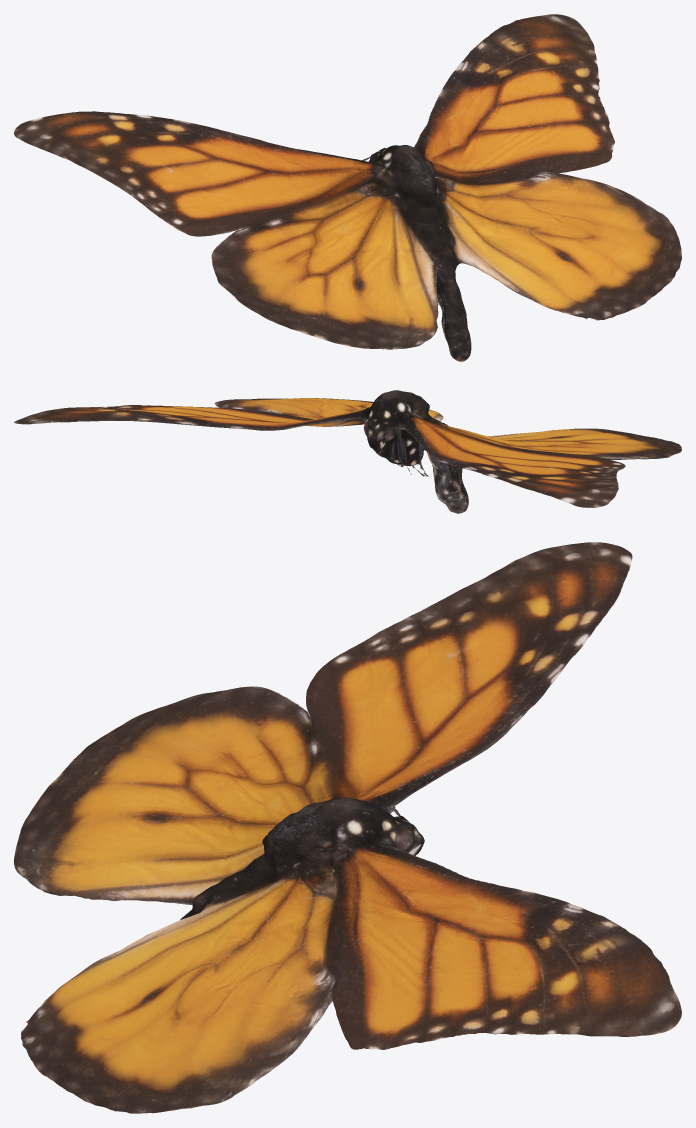
The model's file is monarch_modFinal.glb.
The picture shows the model from 3 angles, top to bottom: view 1: azimuth 30°, elevation 25°; view 2: azimuth 150°, elevation 25°; view 3: azimuth 270°, elevation 25°; orthographic projection. The views are drawn at different scales.
Parts seen in each view (by area): view 1: Object_3, Object_2, Object_4; view 2: Object_3, Object_2, Object_4; view 3: Object_3, Object_2, Object_4.
Part boxes in pixels (left/top/right/bottom): Object_3: left=14, top=111, right=681, bottom=361; Object_2: left=252, top=14, right=614, bottom=329; Object_4: left=15, top=14, right=680, bottom=349; Object_3: left=214, top=390, right=681, bottom=513; Object_2: left=14, top=391, right=463, bottom=495; Object_4: left=15, top=393, right=679, bottom=506; Object_3: left=21, top=542, right=632, bottom=1113; Object_2: left=122, top=756, right=681, bottom=1049; Object_4: left=14, top=544, right=679, bottom=1112.
Size of the model in its own units: 2.91 by 0.9245 by 1.92.
Materials: 1 (1 with a texture image).
